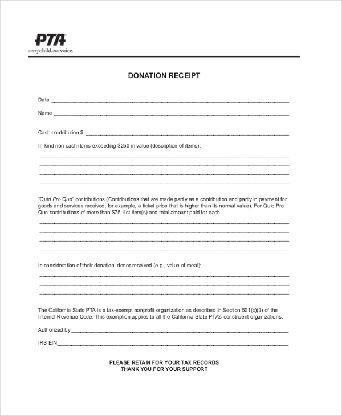textline: (84, 124, 292, 138), (52, 106, 292, 118), (70, 323, 289, 335), (56, 337, 289, 348), (36, 150, 292, 160), (50, 94, 291, 104), (36, 177, 293, 186), (38, 217, 292, 226), (37, 279, 291, 288), (38, 288, 292, 297), (38, 270, 291, 279), (36, 160, 293, 168), (38, 226, 292, 234), (35, 169, 295, 176), (38, 236, 292, 243), (38, 245, 292, 252)
